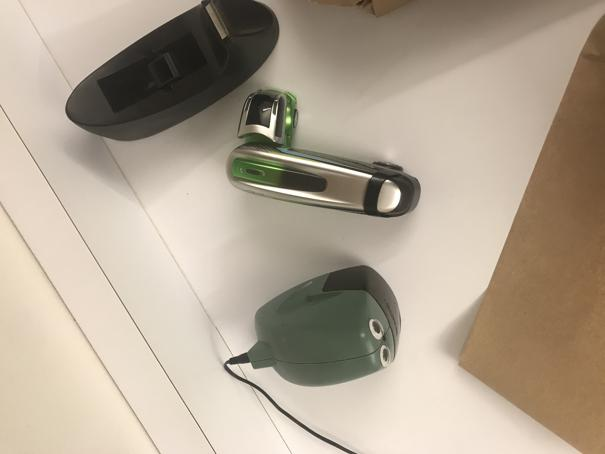Freewheel: (226, 88, 421, 218)
